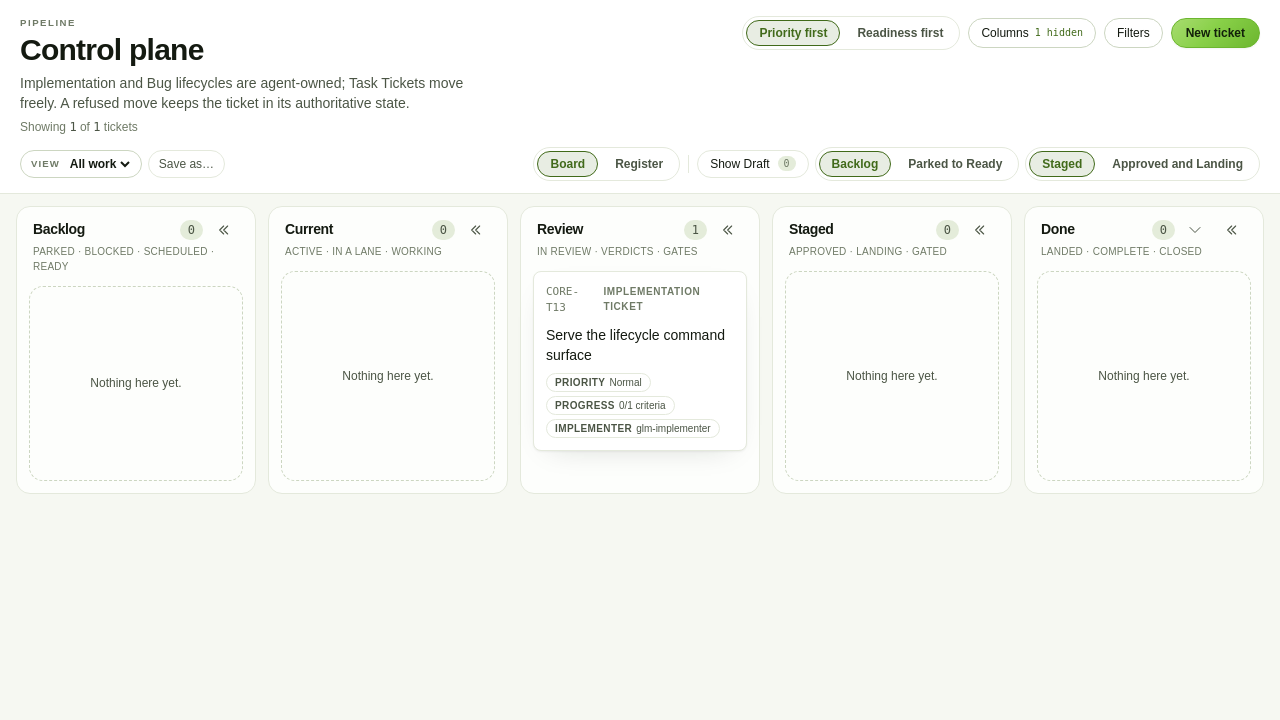
it: the drawer footer actions › finds the open review through the Ticket, with no history attempt to name it
The width and height of the screenshot is (1280, 720).
Click the button with test id "open-ticket-8". click: click(640, 345)
box: 546,325 -> 734,365
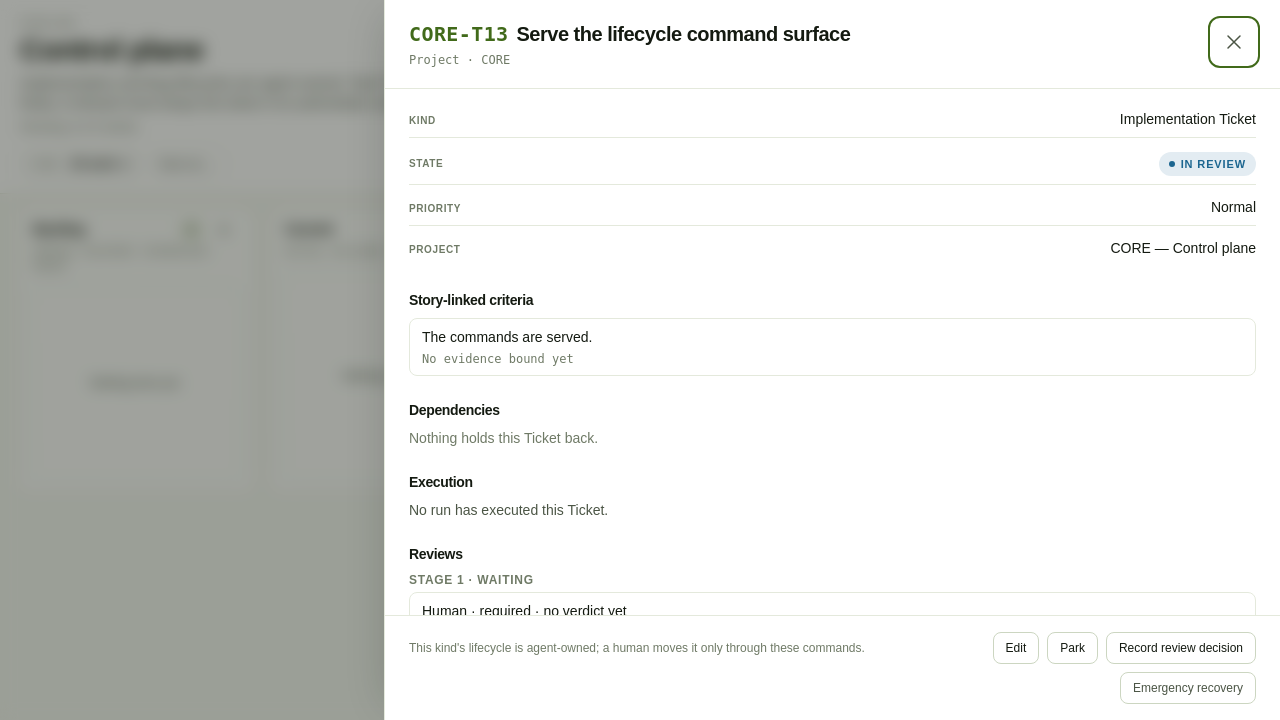
Result: the button with test id "drawer-review-decision" is shown at 1106,632 -> 1256,664
